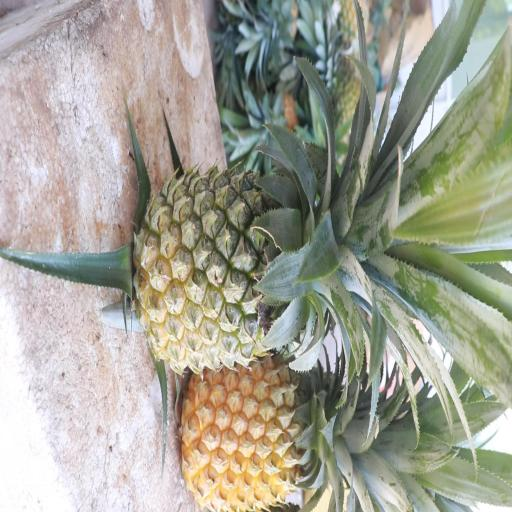------------------------------: (142, 175, 334, 374)
Pineapple - v8 v1: (181, 362, 351, 508)
